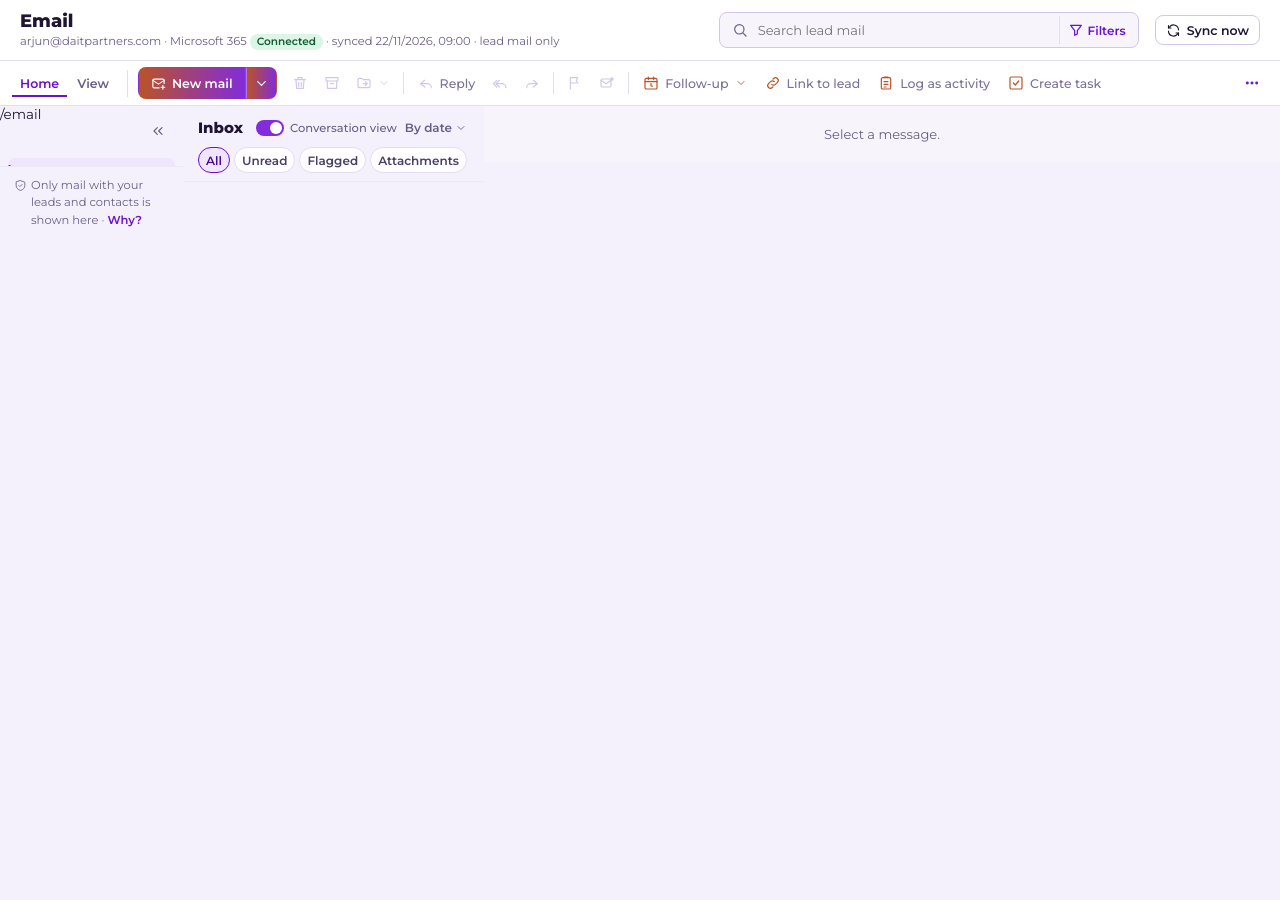
Test: Email screen (release 2B-2, prototype V.email) › top bar sub line ends "lead mail only"; Sync now as before
Click the button "Sync now" at (1207, 30), box [1155,15,1260,45]
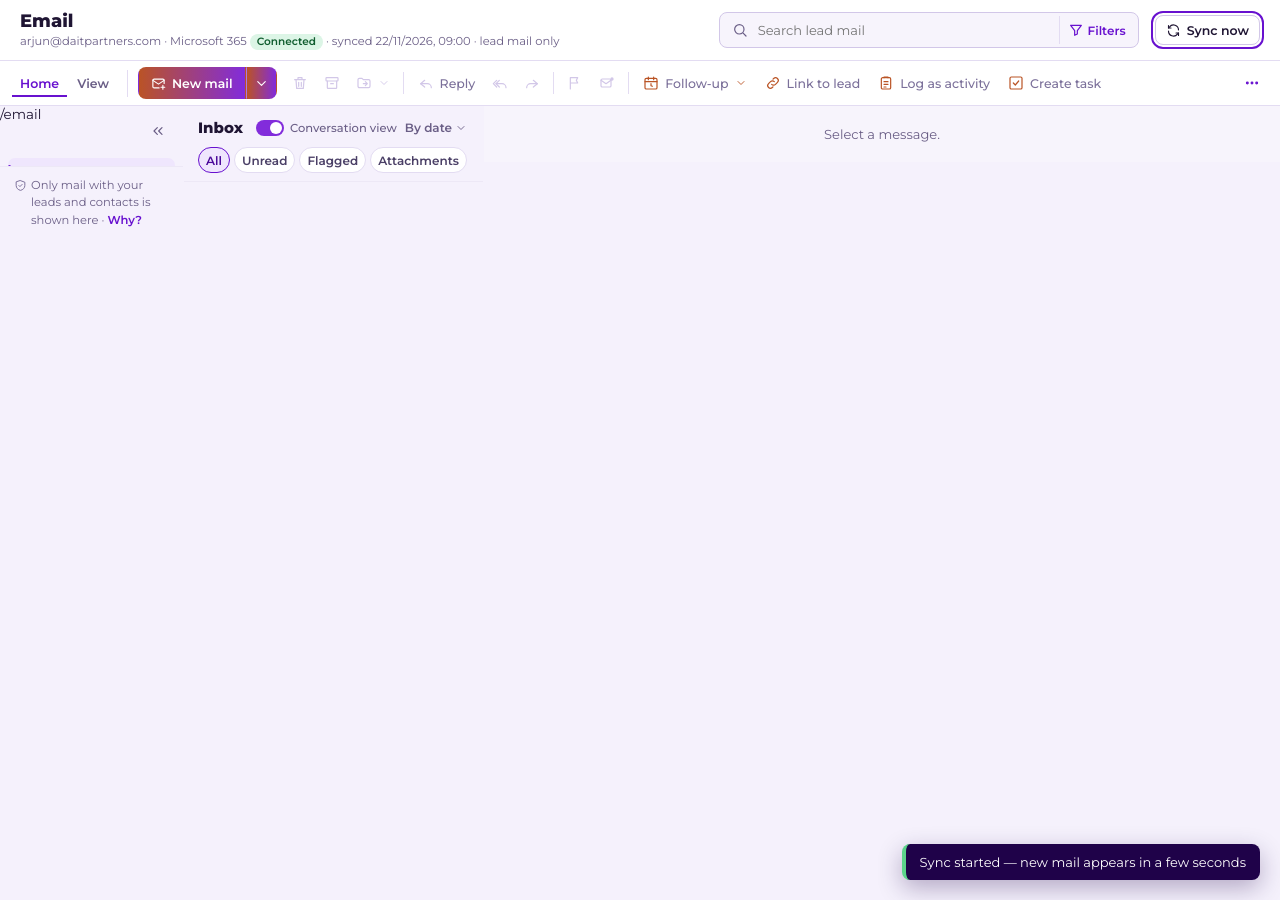
Now the text "Sync started — new mail appears in a few seconds" is shown, box [902,844,1260,880]
